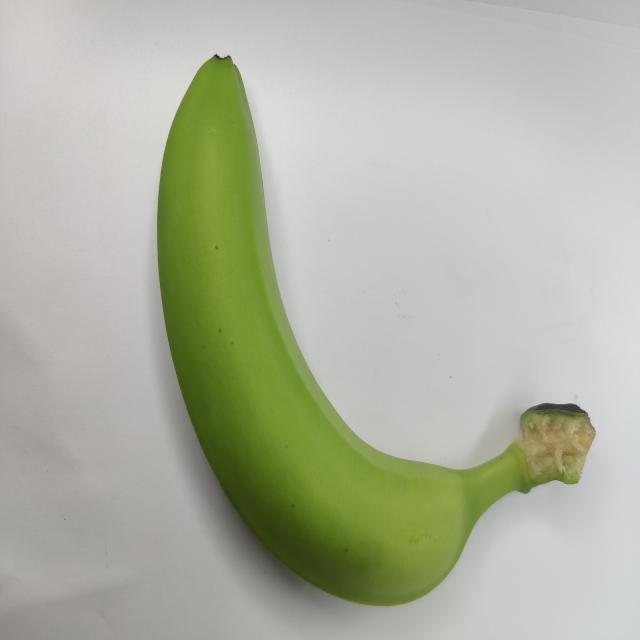raw: (148, 45, 602, 610)
